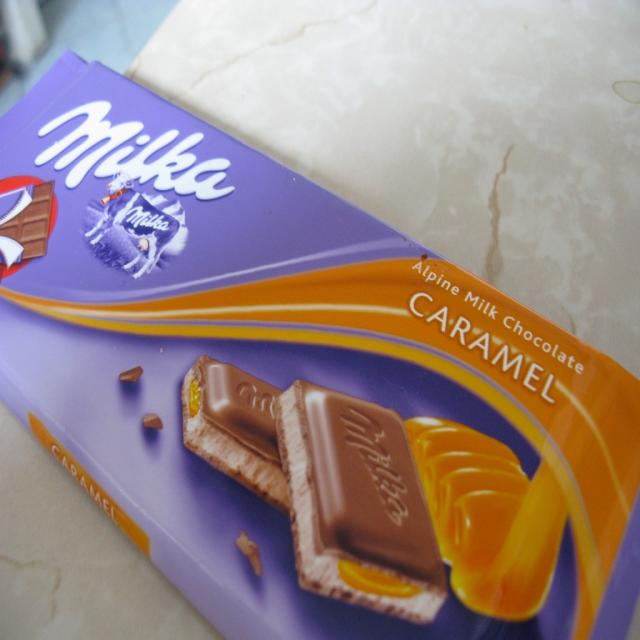milka: (32, 97, 240, 285)
